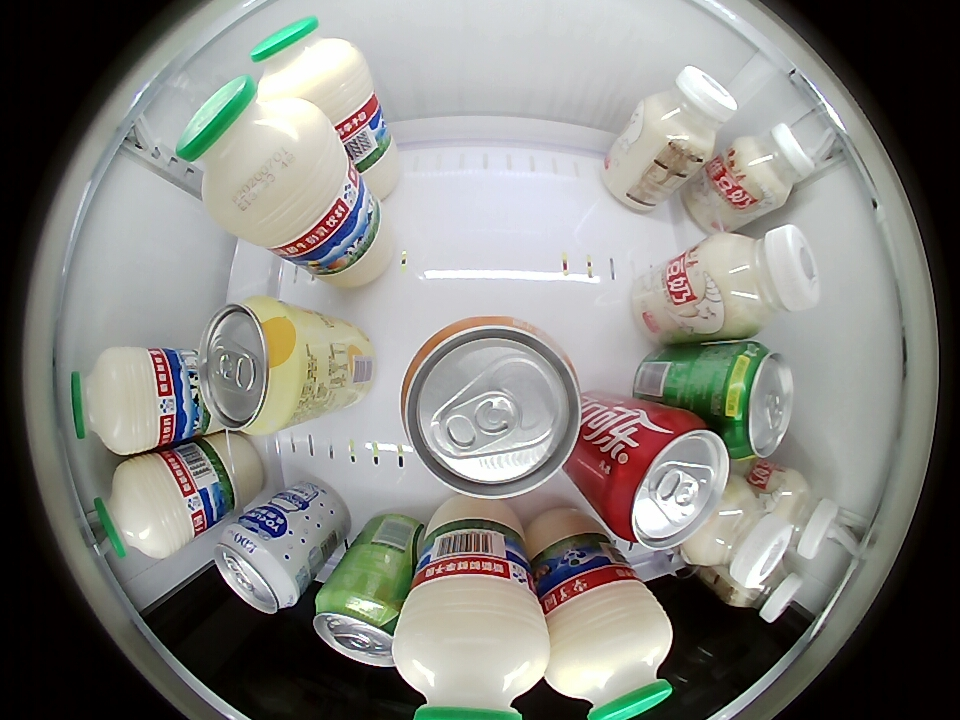fenda: (400, 317, 582, 498)
kele: (603, 412, 729, 550)
liziyuan: (393, 565, 550, 718), (544, 577, 674, 720), (177, 73, 310, 204), (249, 14, 369, 113), (95, 454, 200, 561), (73, 347, 163, 454)
mangguoxiaolao: (197, 298, 306, 435)
quchenshixiangcao: (313, 586, 401, 666)
rusuanjunqishui: (212, 519, 304, 615)
weiweidounai: (703, 223, 821, 337), (688, 480, 790, 589), (638, 64, 738, 166), (733, 122, 816, 206), (762, 469, 839, 559), (728, 558, 803, 623)
xuebi2: (710, 342, 794, 460)
